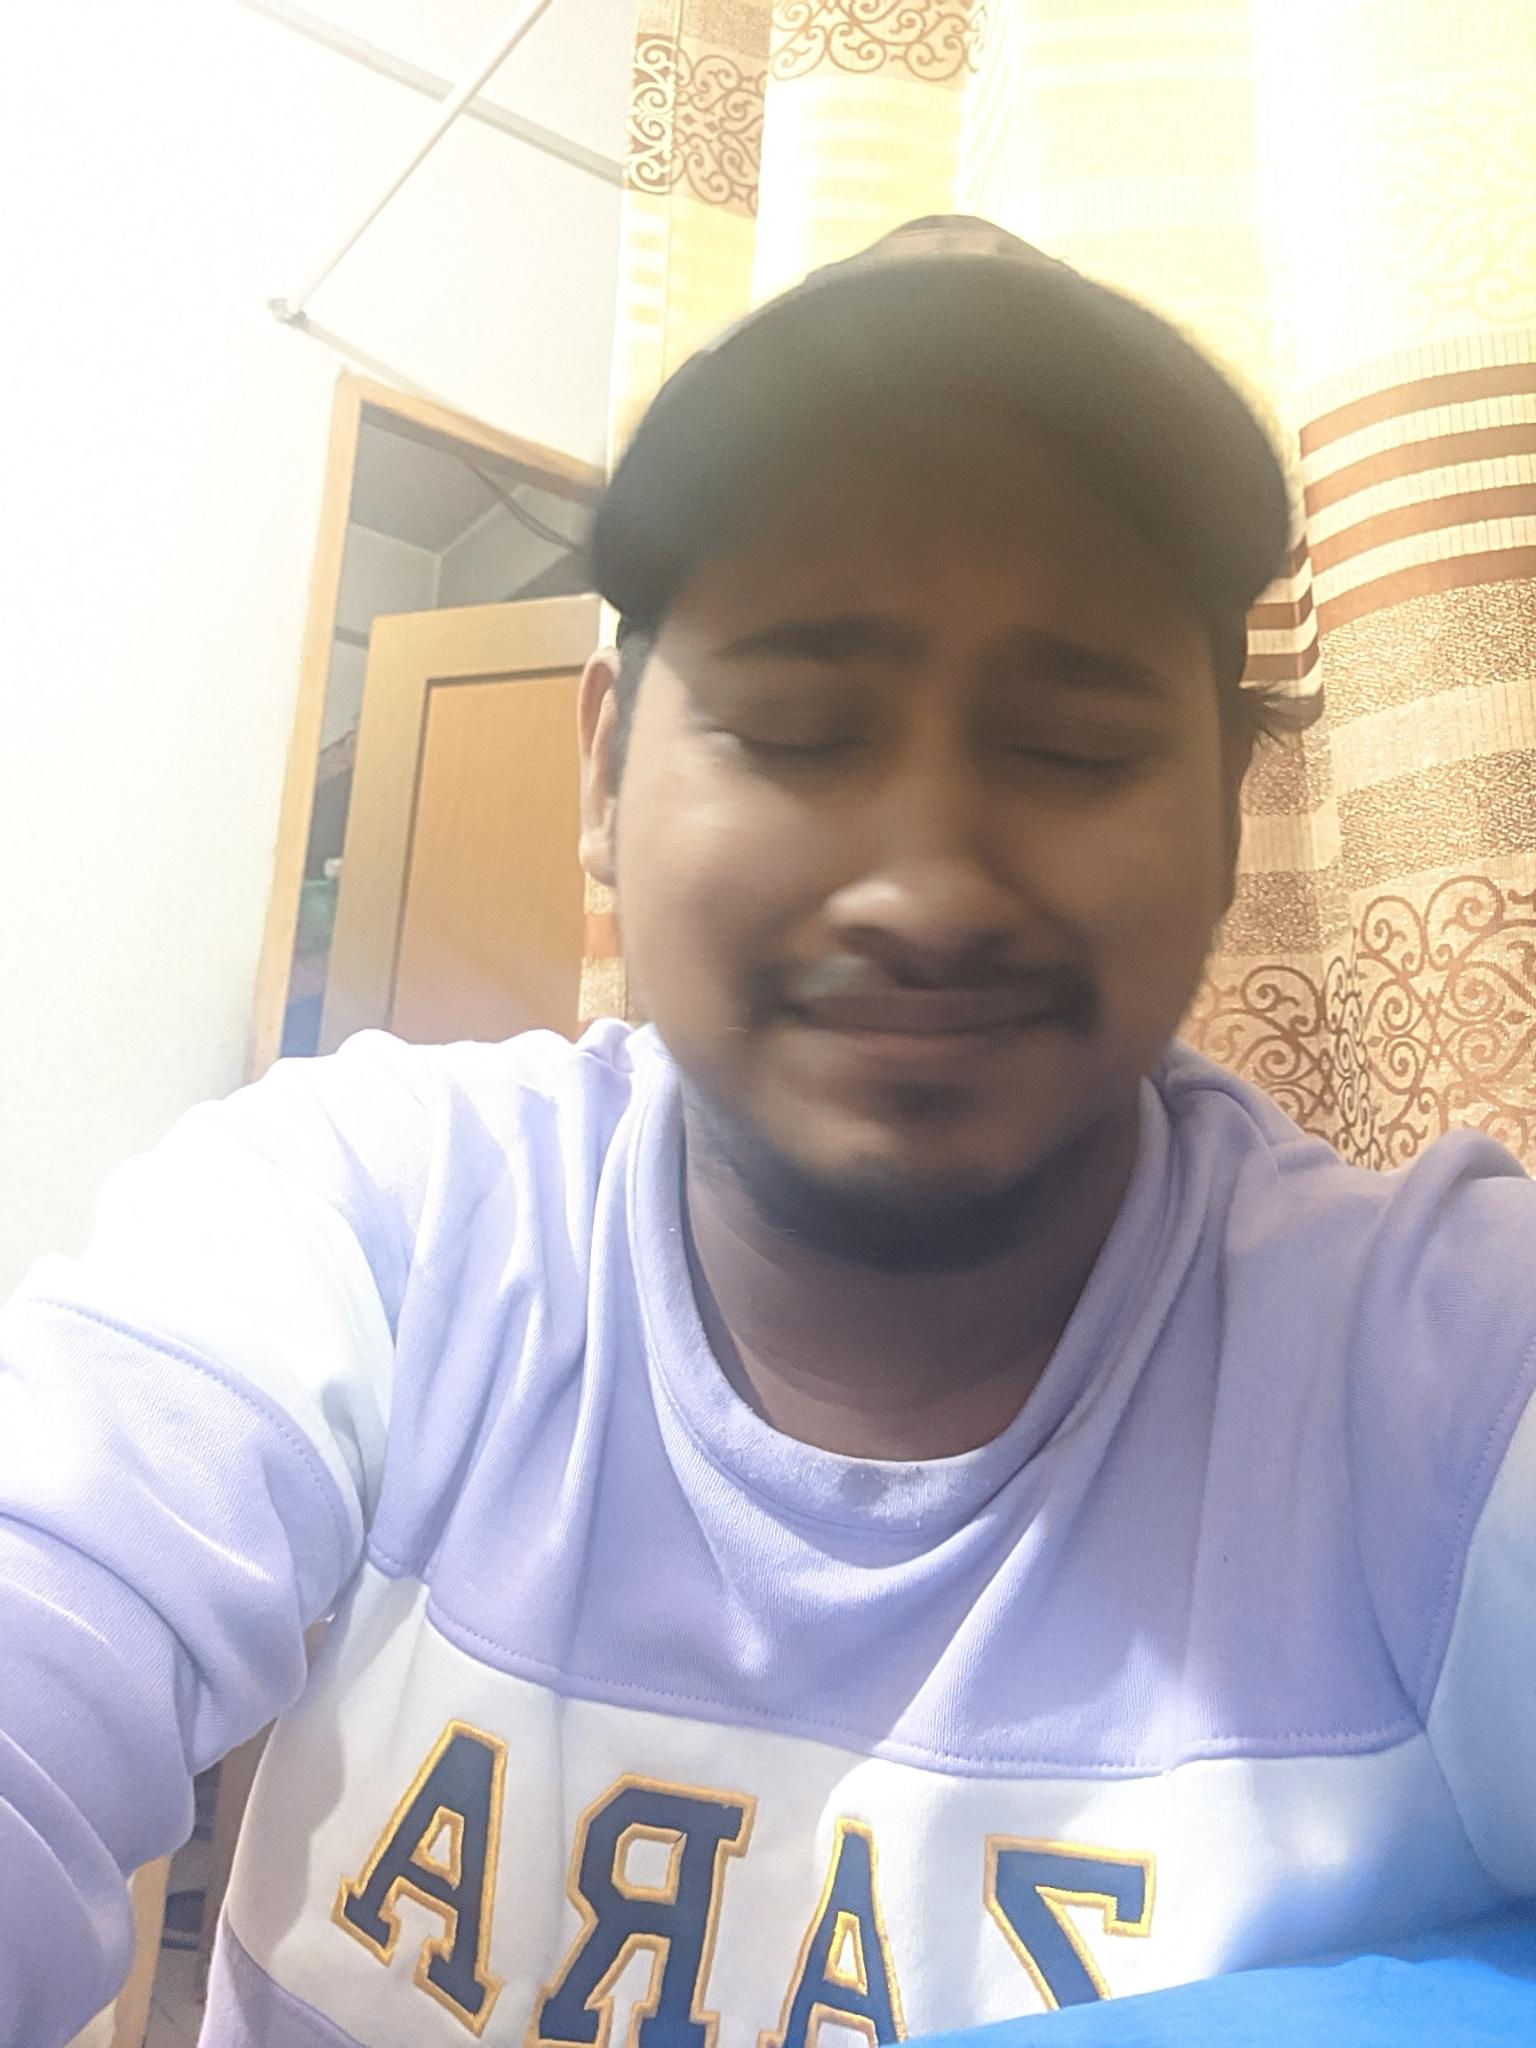Sad: (610, 490, 1236, 1266)
